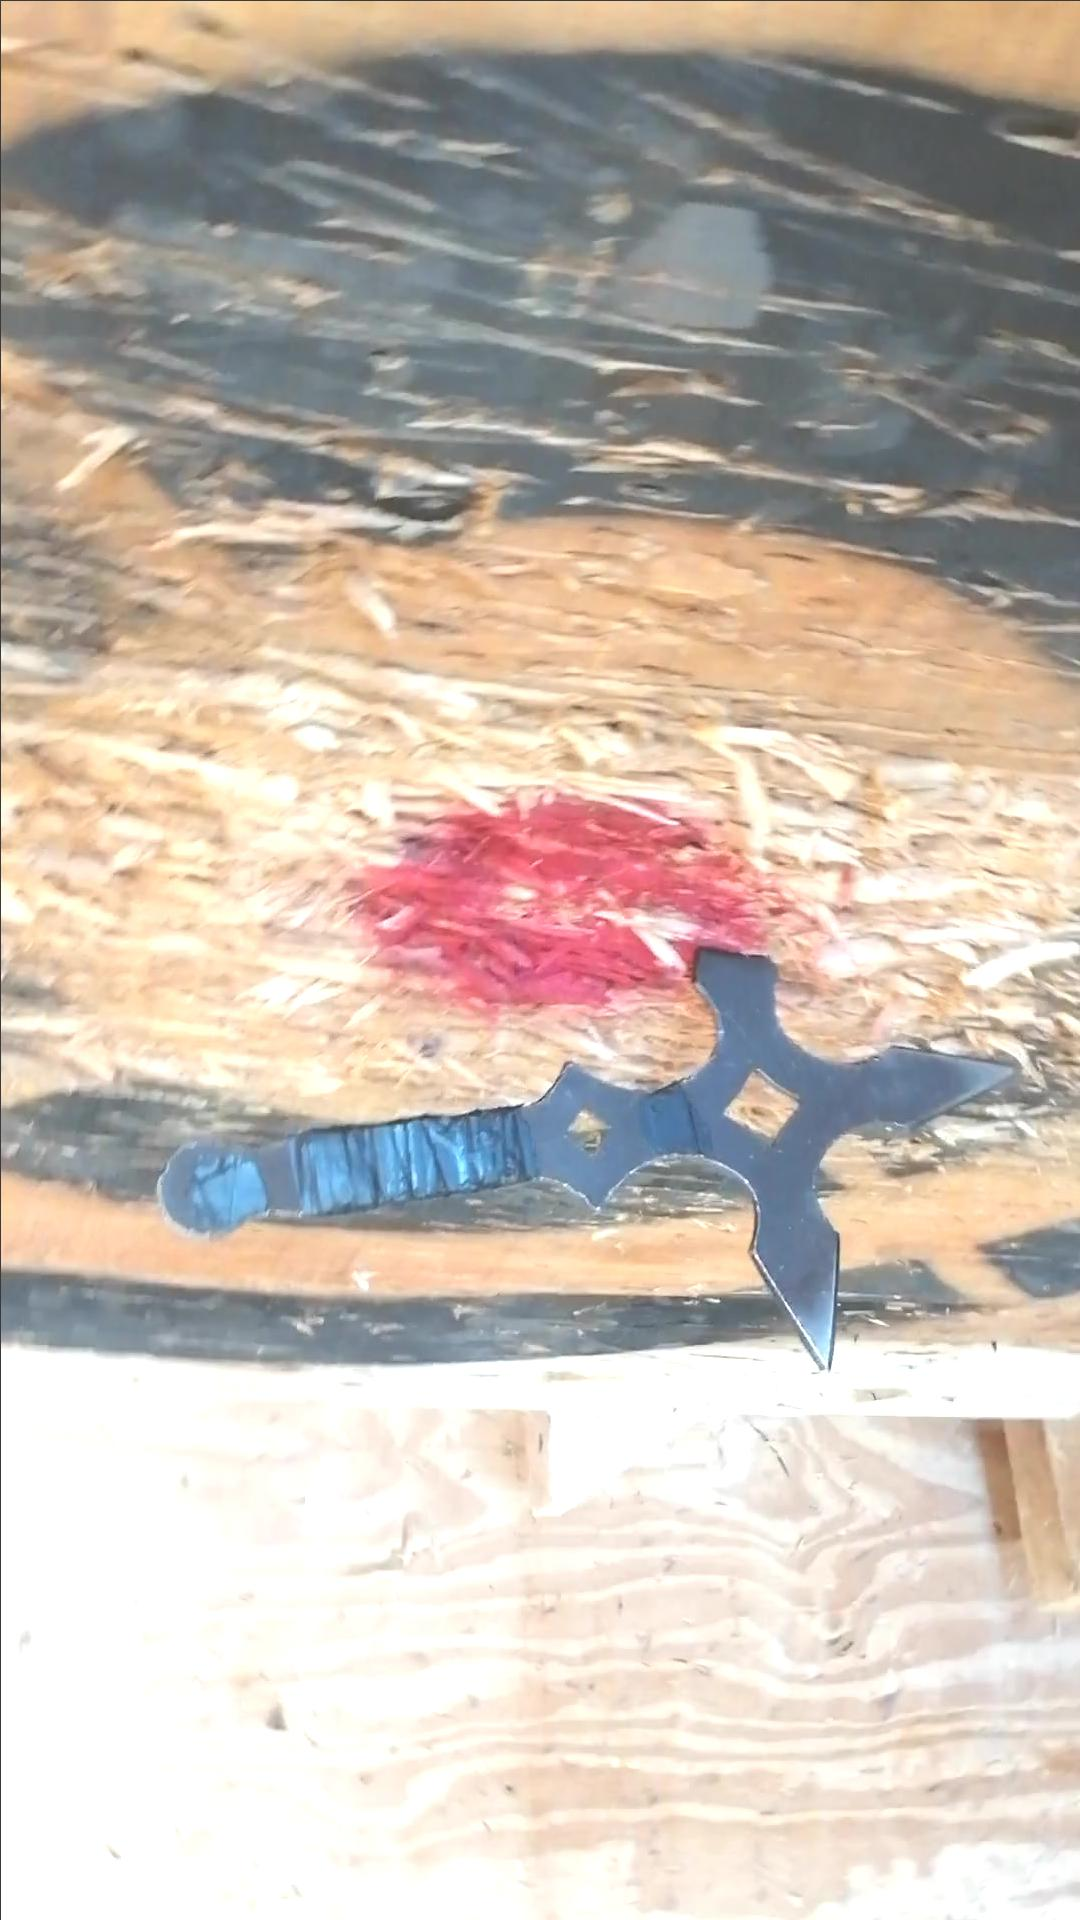Hand Axe: (146, 947, 1018, 1371)
